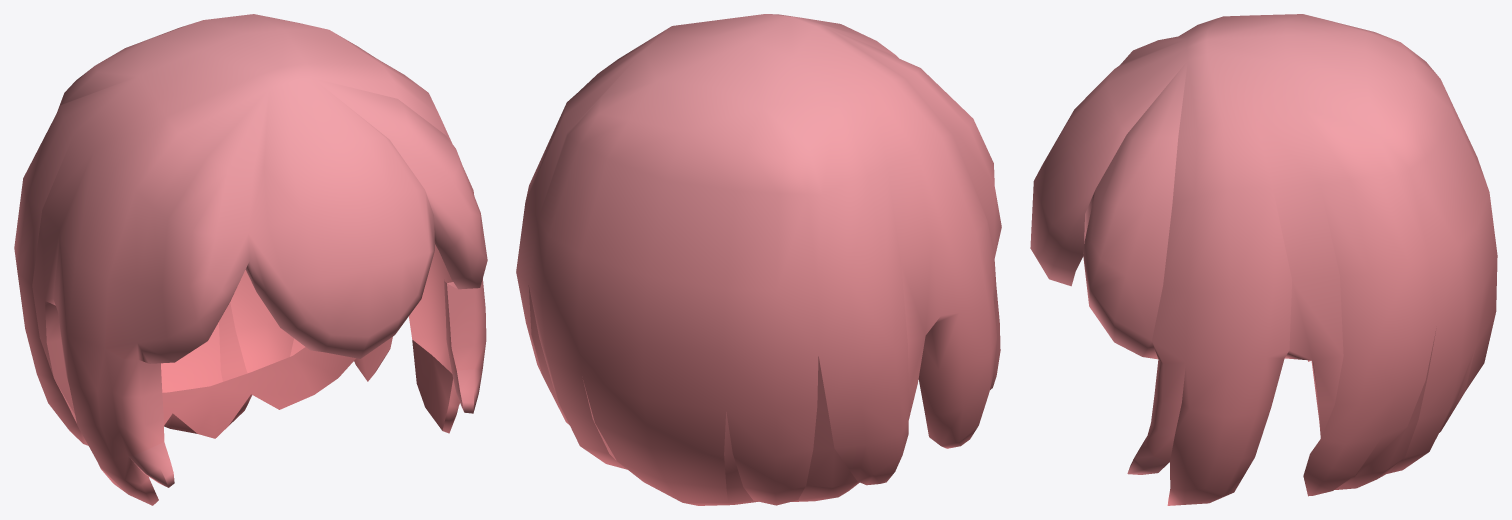
The model's file is Hair_6.fbx.
The picture shows the model from 3 angles, left to right: view 1: azimuth 30°, elevation 25°; view 2: azimuth 150°, elevation 25°; view 3: azimuth 270°, elevation 25°; orthographic projection. The views are drawn at different scales.
Parts seen in each view (by area): view 1: Hair_6; view 2: Hair_6; view 3: Hair_6.
Part boxes in pixels (left/top/right/bottom): Hair_6: left=14, top=14, right=487, bottom=505; Hair_6: left=516, top=14, right=1001, bottom=505; Hair_6: left=1030, top=14, right=1497, bottom=505.
Size of the model in its own units: 73.28 by 72.94 by 71.83.
